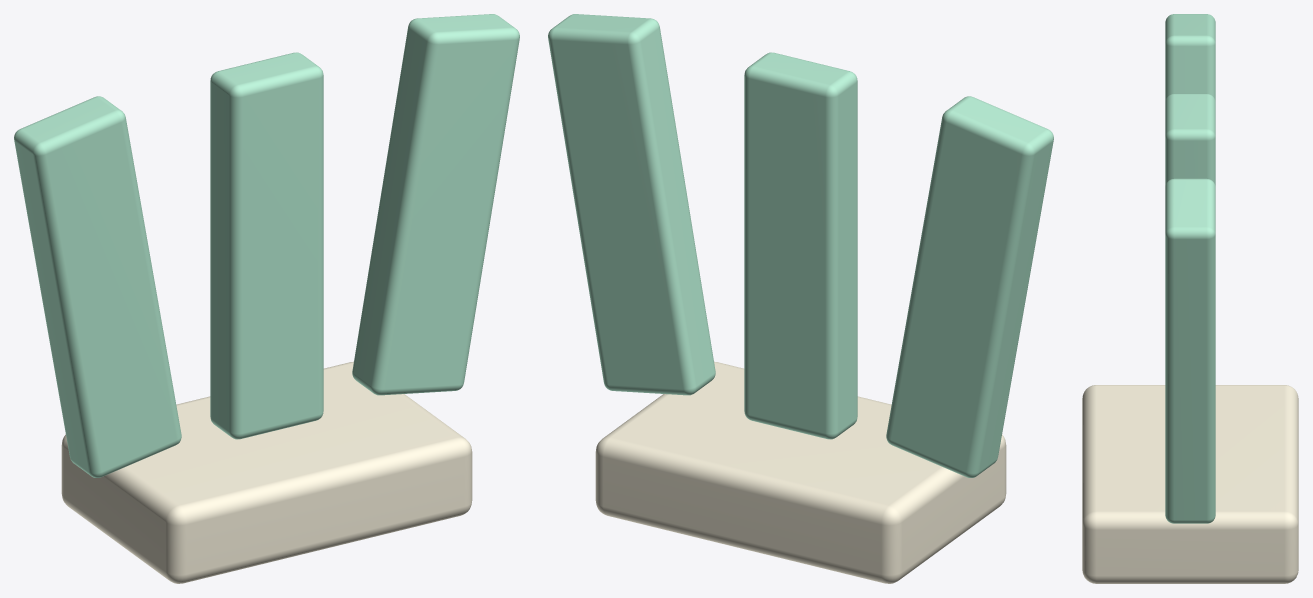
Rendered from grass_candy.glb.
The picture shows the model from 3 angles, left to right: view 1: azimuth 30°, elevation 25°; view 2: azimuth 150°, elevation 25°; view 3: azimuth 270°, elevation 25°; orthographic projection. The views are drawn at different scales.
Parts seen in each view (by area): view 1: CandyGrass_CreamBase, CandyGrass_Blade2, CandyGrass_Blade1, CandyGrass_Blade0; view 2: CandyGrass_CreamBase, CandyGrass_Blade2, CandyGrass_Blade1, CandyGrass_Blade0; view 3: CandyGrass_CreamBase, CandyGrass_Blade2, CandyGrass_Blade1, CandyGrass_Blade0.
Boxes of the visible parts, x1=… form: CandyGrass_CreamBase: x1=61, y1=361, x2=472, y2=583; CandyGrass_Blade2: x1=352, y1=14, x2=519, y2=395; CandyGrass_Blade1: x1=210, y1=52, x2=323, y2=439; CandyGrass_Blade0: x1=14, y1=96, x2=181, y2=477; CandyGrass_CreamBase: x1=595, y1=361, x2=1006, y2=583; CandyGrass_Blade2: x1=548, y1=14, x2=715, y2=395; CandyGrass_Blade1: x1=744, y1=52, x2=857, y2=439; CandyGrass_Blade0: x1=886, y1=96, x2=1053, y2=477; CandyGrass_CreamBase: x1=1082, y1=385, x2=1298, y2=583; CandyGrass_Blade2: x1=1165, y1=178, x2=1215, y2=523; CandyGrass_Blade1: x1=1165, y1=93, x2=1215, y2=185; CandyGrass_Blade0: x1=1165, y1=14, x2=1215, y2=100.
Size of the model in its own units: 0.4596 by 0.4039 by 0.192.
